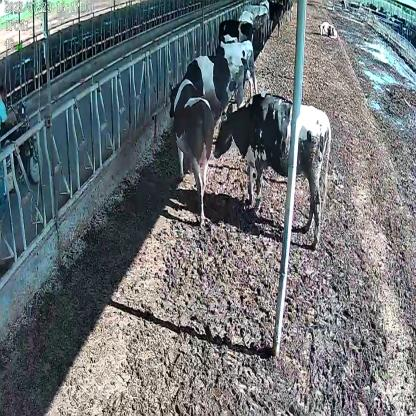cow: (214, 90, 333, 248), (172, 75, 216, 232), (168, 52, 248, 121), (318, 22, 338, 42)
